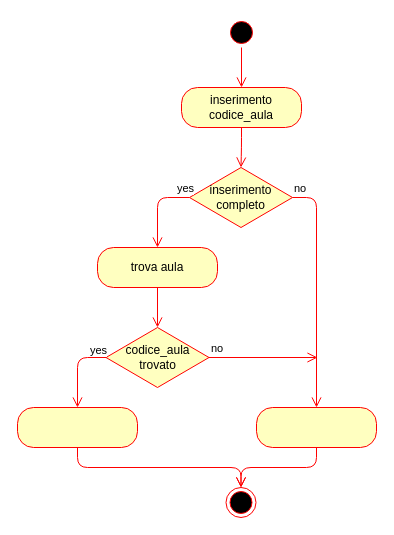
The diagram is 394 pixels wide and 535 high, and some of its shapes have lost their labels. Here are the shapes that lost their labels. From the top down, the box of each, then its label:
(16, 406, 138, 448): visualizza info aula
(256, 406, 376, 448): errore
